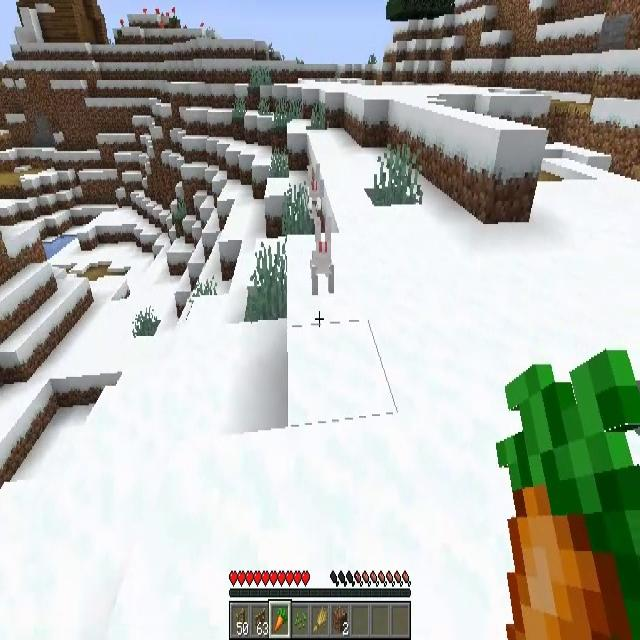rabbit: (311, 217, 334, 295)
